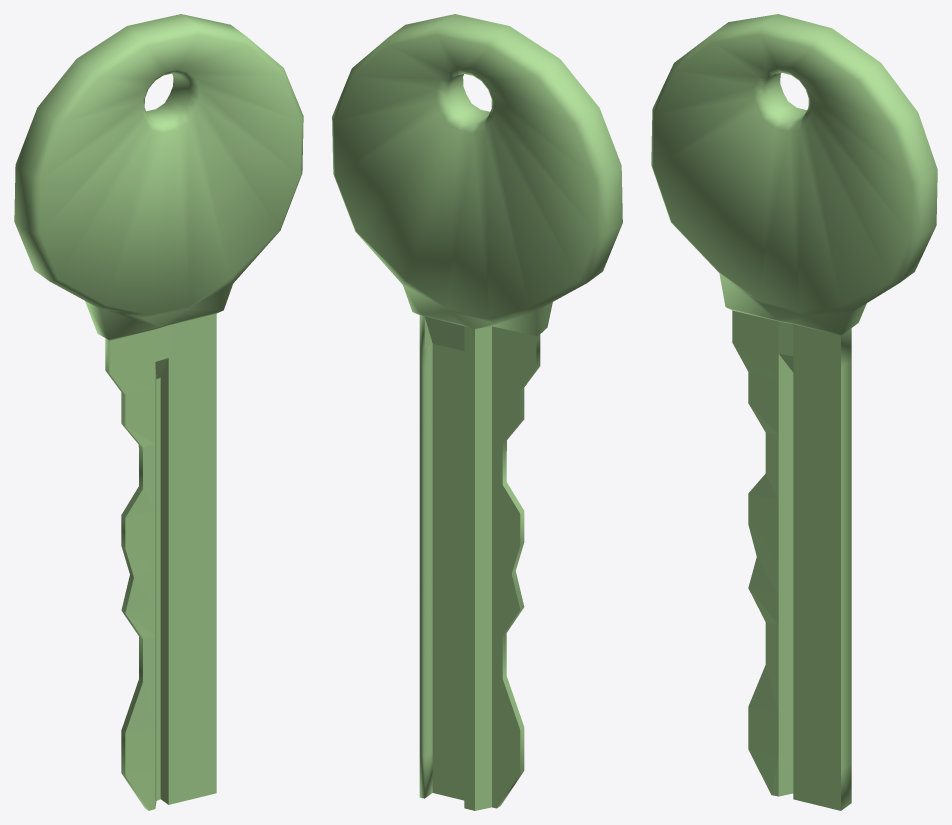
Rendered from Keys_22.FBX.
3 renders of one model, left to right at view 1: azimuth 30°, elevation 25°; view 2: azimuth 150°, elevation 25°; view 3: azimuth 330°, elevation 25°, orthographic.
Visible parts, largest first — view 1: Keys_22; view 2: Keys_22; view 3: Keys_22.
Boxes of the visible parts, <box> form: Keys_22: <box>14,14,303,810</box>; Keys_22: <box>332,14,622,810</box>; Keys_22: <box>651,14,937,810</box>.
Bounding box in the file's own units: 0.7597 × 2.06 × 0.1244.
